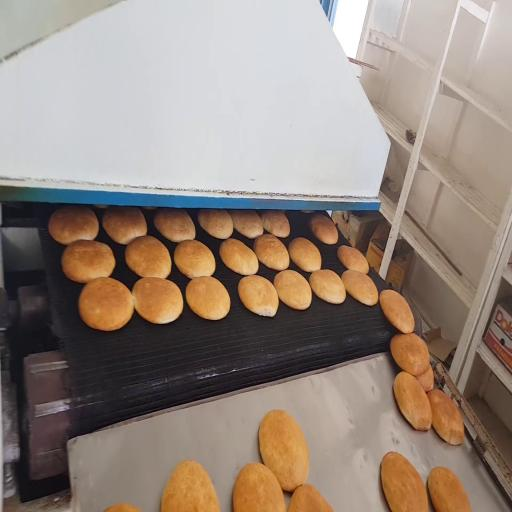bread: (259, 410, 308, 492), (161, 461, 220, 511), (79, 277, 133, 330), (381, 452, 428, 511), (233, 463, 286, 511), (132, 277, 183, 324), (62, 240, 115, 283), (394, 372, 432, 430), (427, 390, 464, 445), (48, 206, 98, 245), (186, 276, 230, 320), (125, 236, 171, 278), (428, 467, 470, 511), (103, 207, 147, 245), (238, 275, 278, 316), (391, 333, 429, 376), (174, 240, 215, 278), (274, 270, 311, 310), (380, 290, 414, 333), (220, 238, 258, 275), (154, 209, 195, 242), (342, 270, 378, 305), (254, 234, 289, 270), (288, 485, 333, 511), (310, 270, 345, 303), (288, 238, 321, 272), (198, 210, 233, 239), (230, 210, 263, 238), (337, 246, 369, 274), (310, 214, 338, 244), (260, 211, 290, 237), (416, 366, 434, 392), (104, 503, 140, 511), (94, 205, 107, 209), (143, 206, 156, 210), (301, 210, 314, 213)
